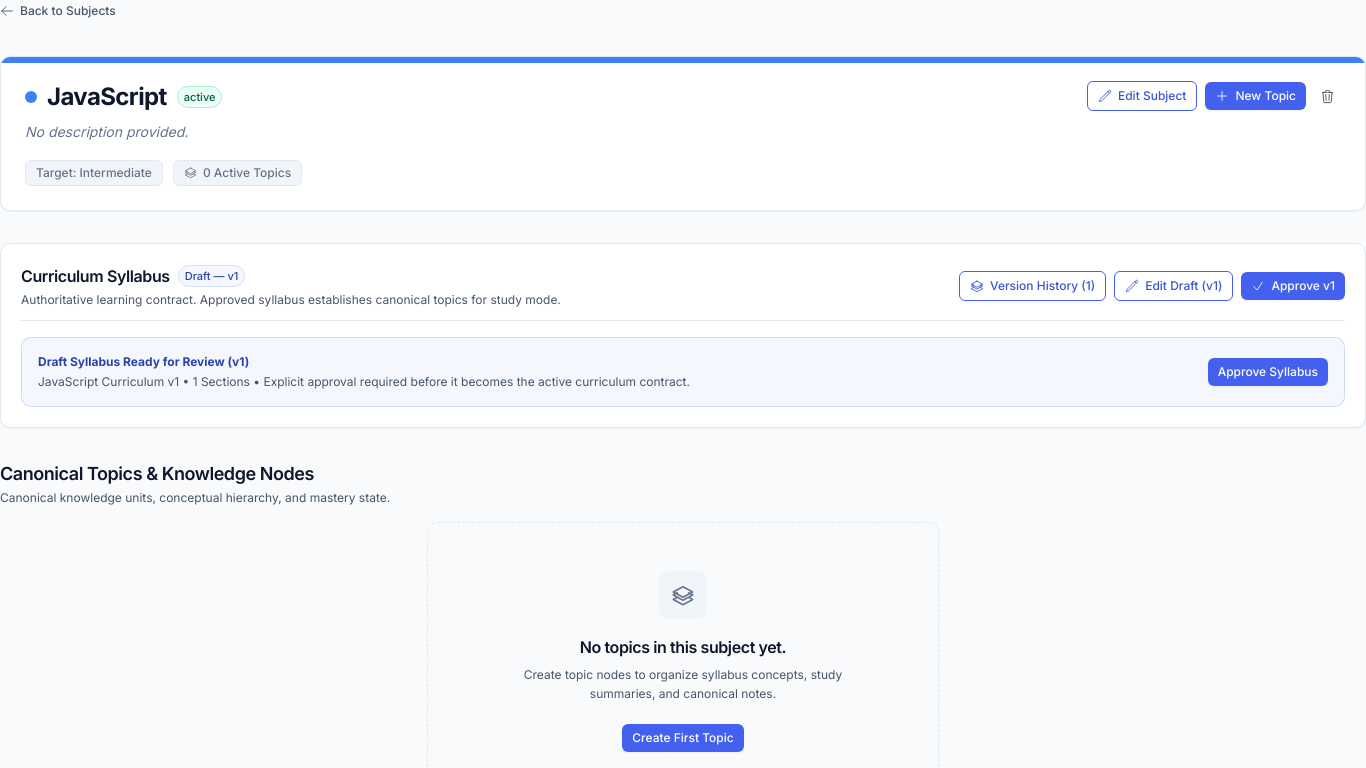
Test case: Syllabus & Knowledge Governance Frontend Workflows (Phase 04.1) › 2. Displays draft syllabus badge and supports explicit approval confirmation modal
The width and height of the screenshot is (1366, 768).
Expected: the text "Draft — v1" is shown, top-left (185, 268), bottom-right (238, 284)
Click "Approve v1"
Step 1. Click the button "Approve v1" → x=1293, y=286, box top-left (1241, 272), bottom-right (1345, 300)
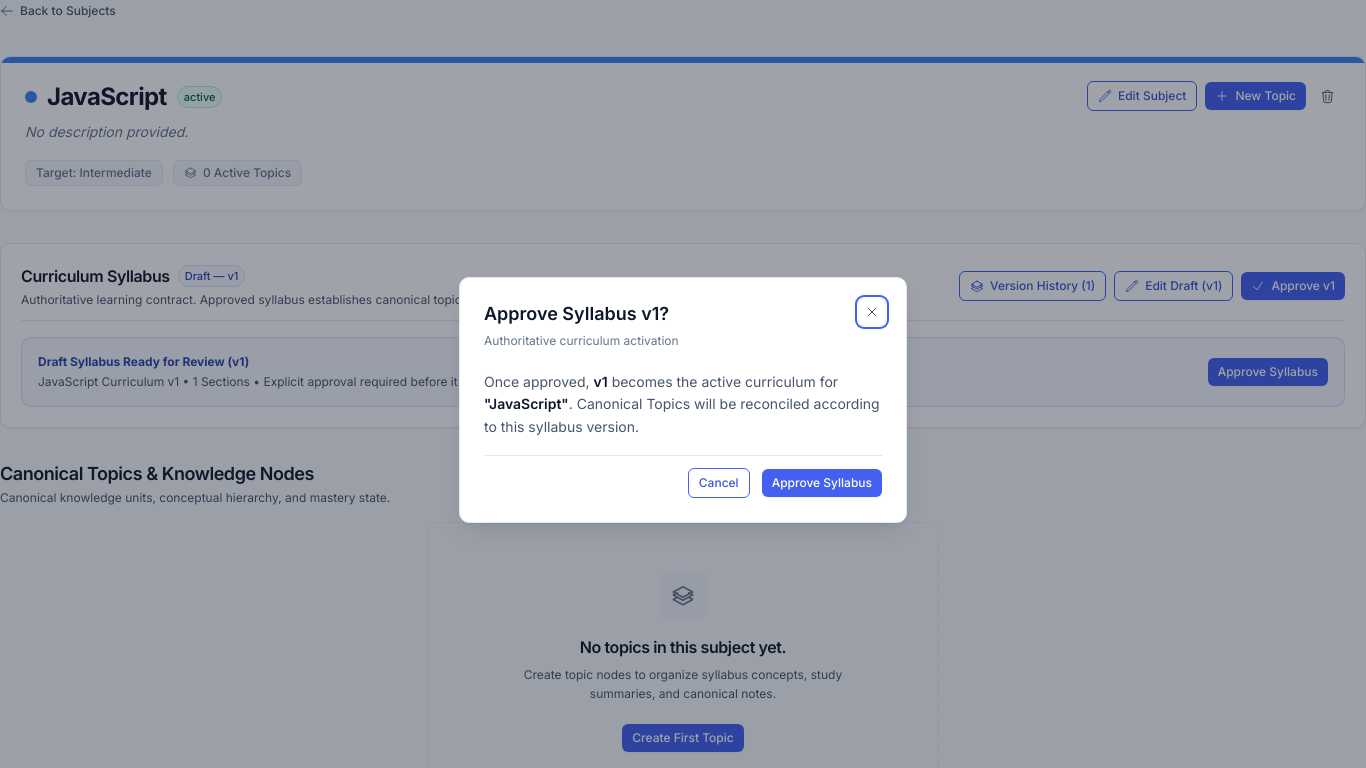
Expected: the heading "Approve Syllabus v1?" is shown, top-left (484, 302), bottom-right (679, 327)
